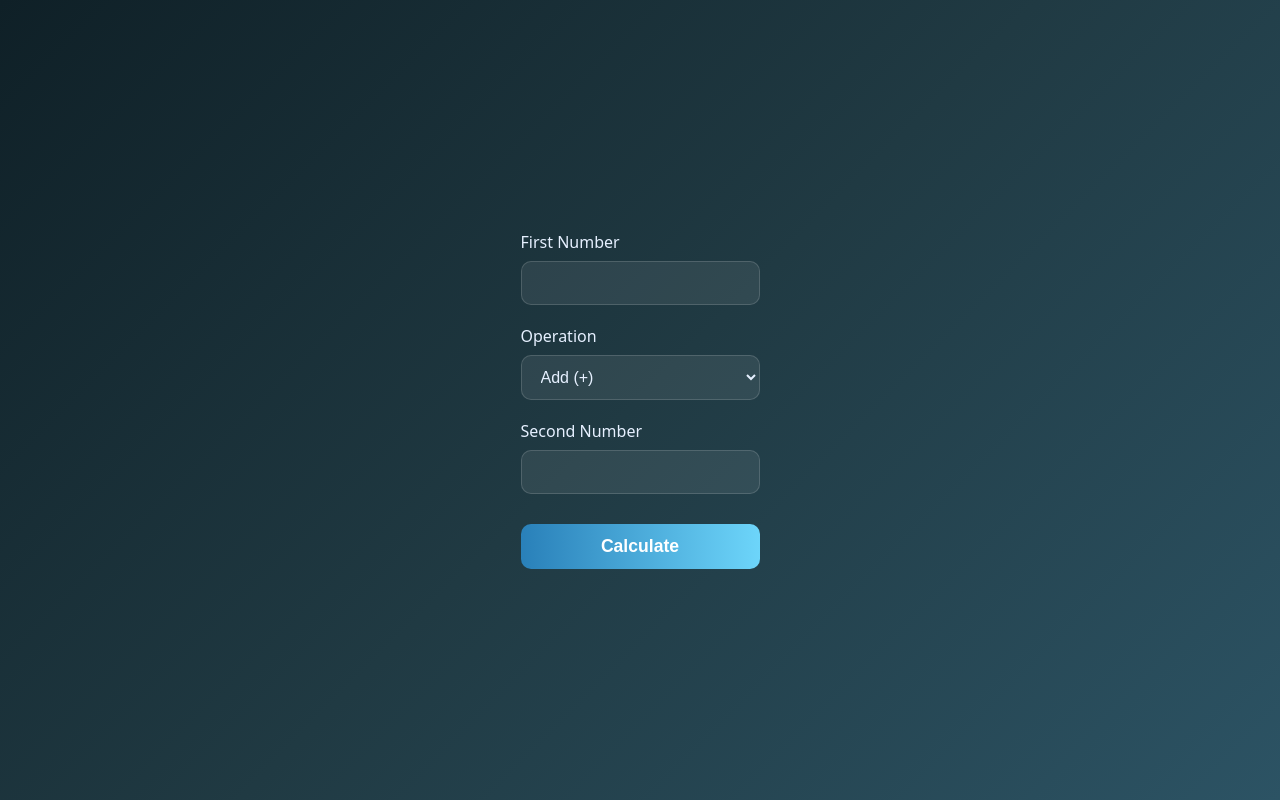
Scenario: CalculatorTab › displays result after calculation
Type "3" into the field labelled "First Number" at (640, 283), box [520,261,760,305]
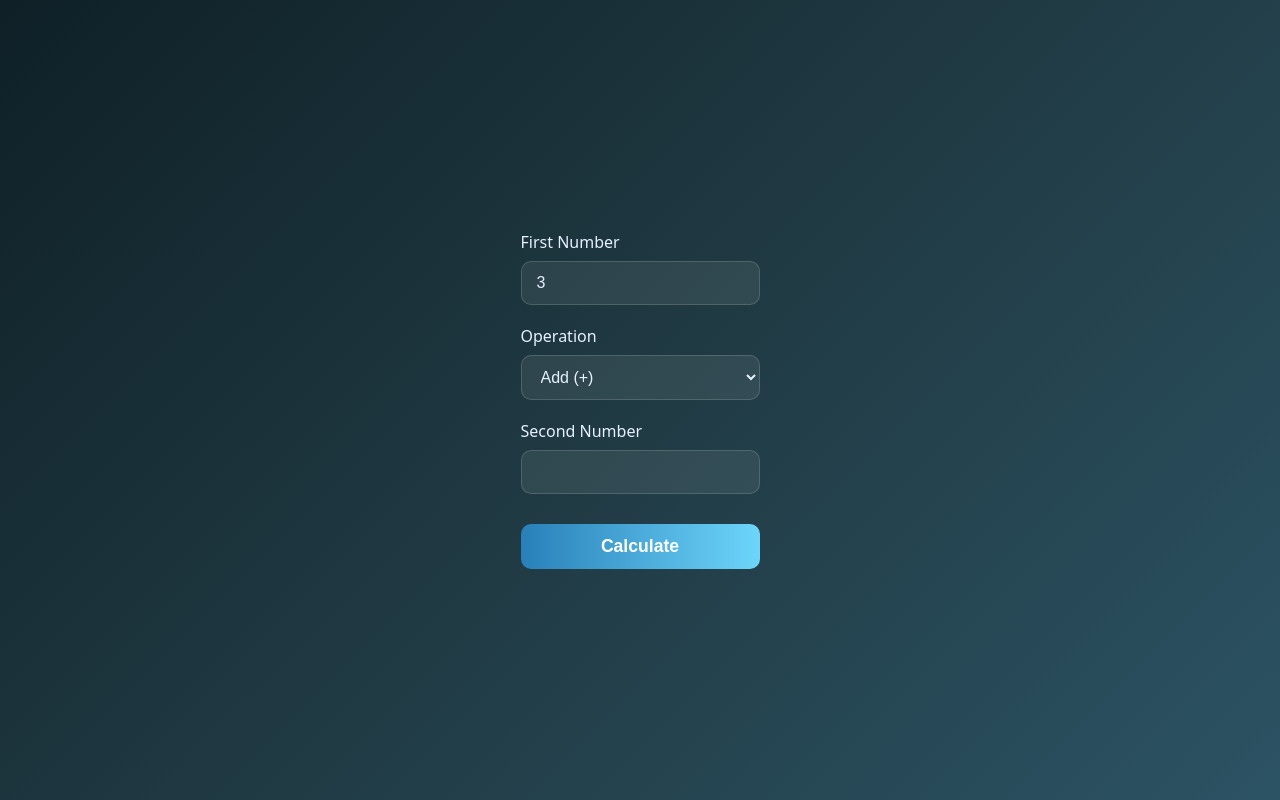
Type "4" into the field labelled "Second Number" at (640, 472), box [520,450,760,494]
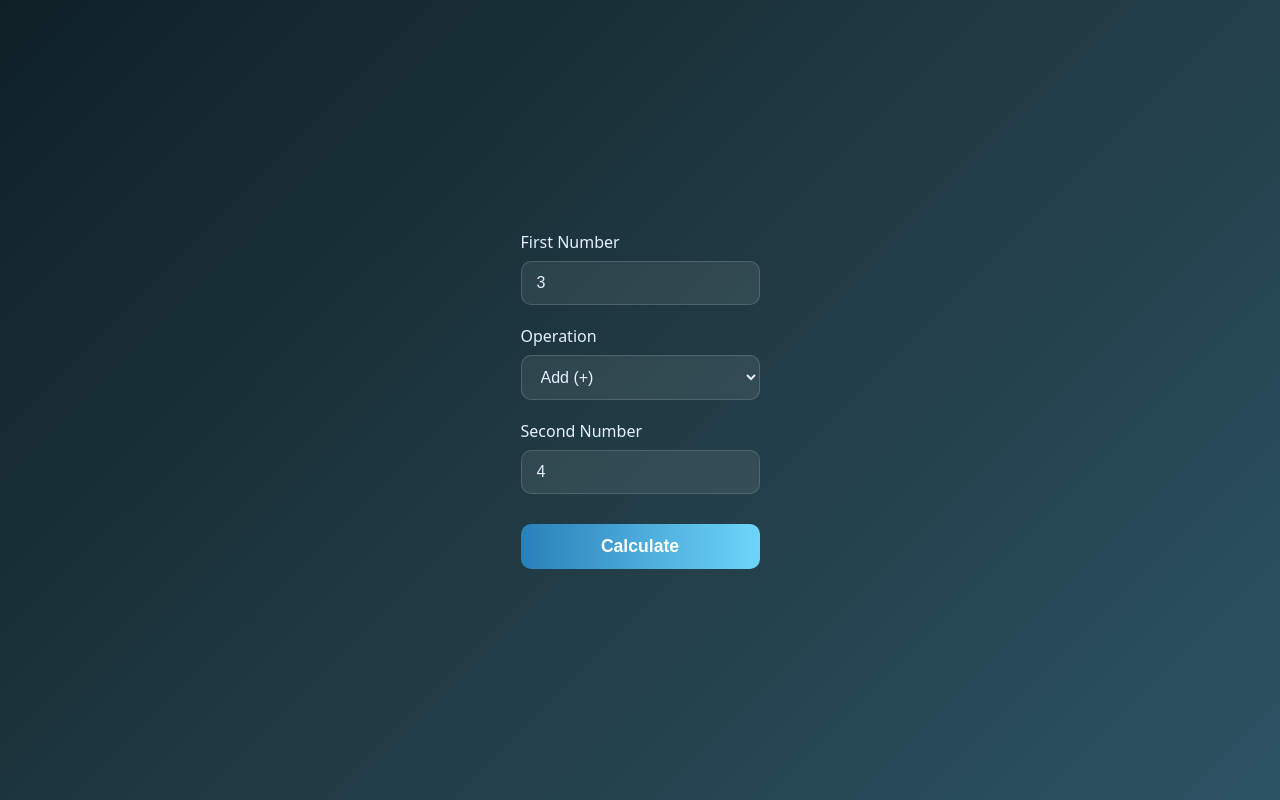
Select "Add (+)" in the dropdown labelled "Operation" at (640, 378), box [520,355,760,400]
Click the button "Calculate" at (640, 546), box [520,524,760,569]
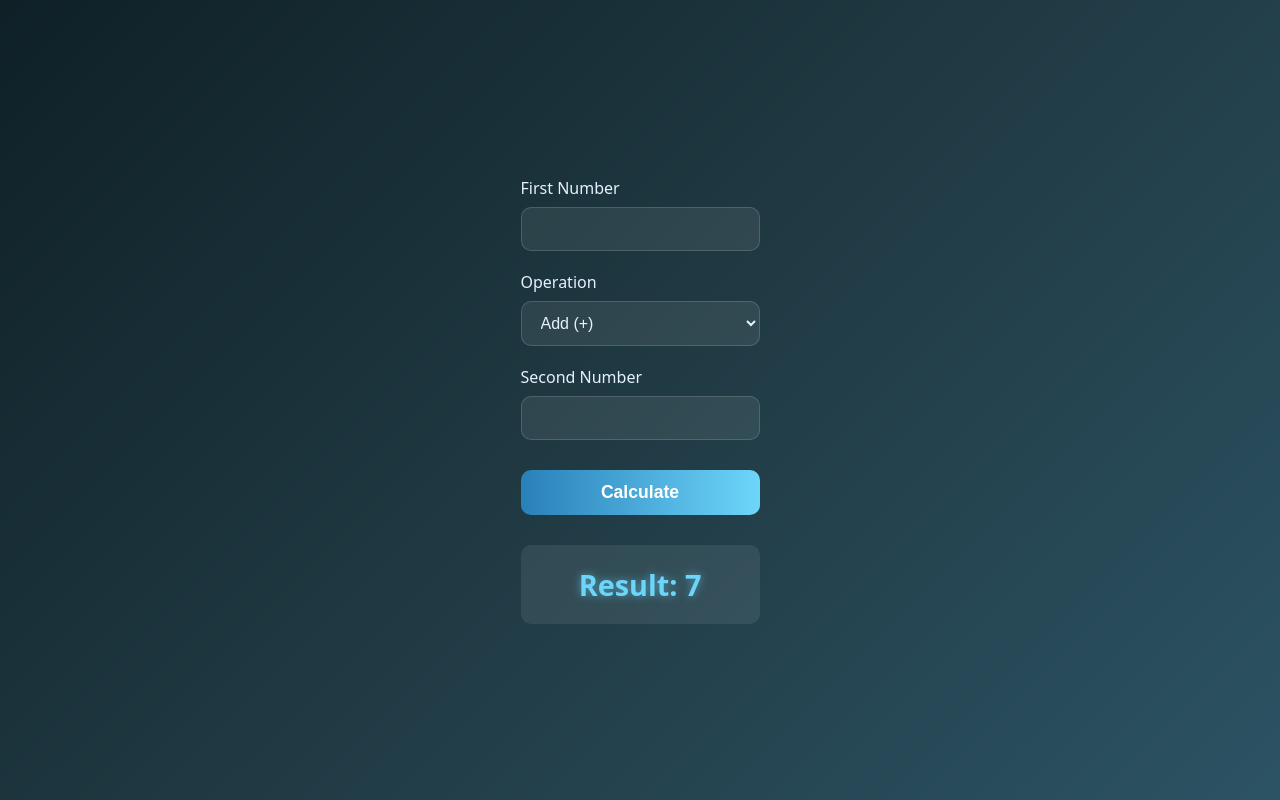
Result: the heading "Result: 7" is shown at [579,564,701,604]
